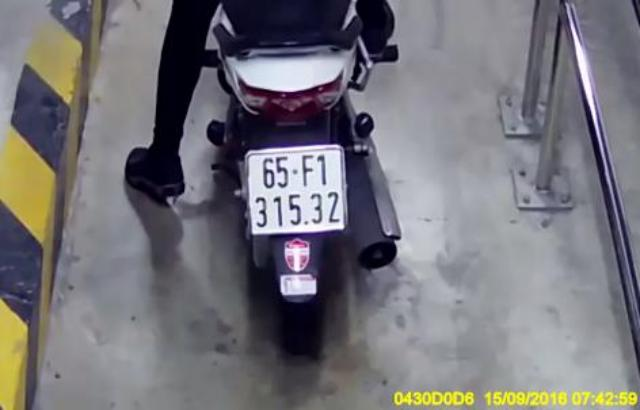plate: (235, 140, 352, 242)
